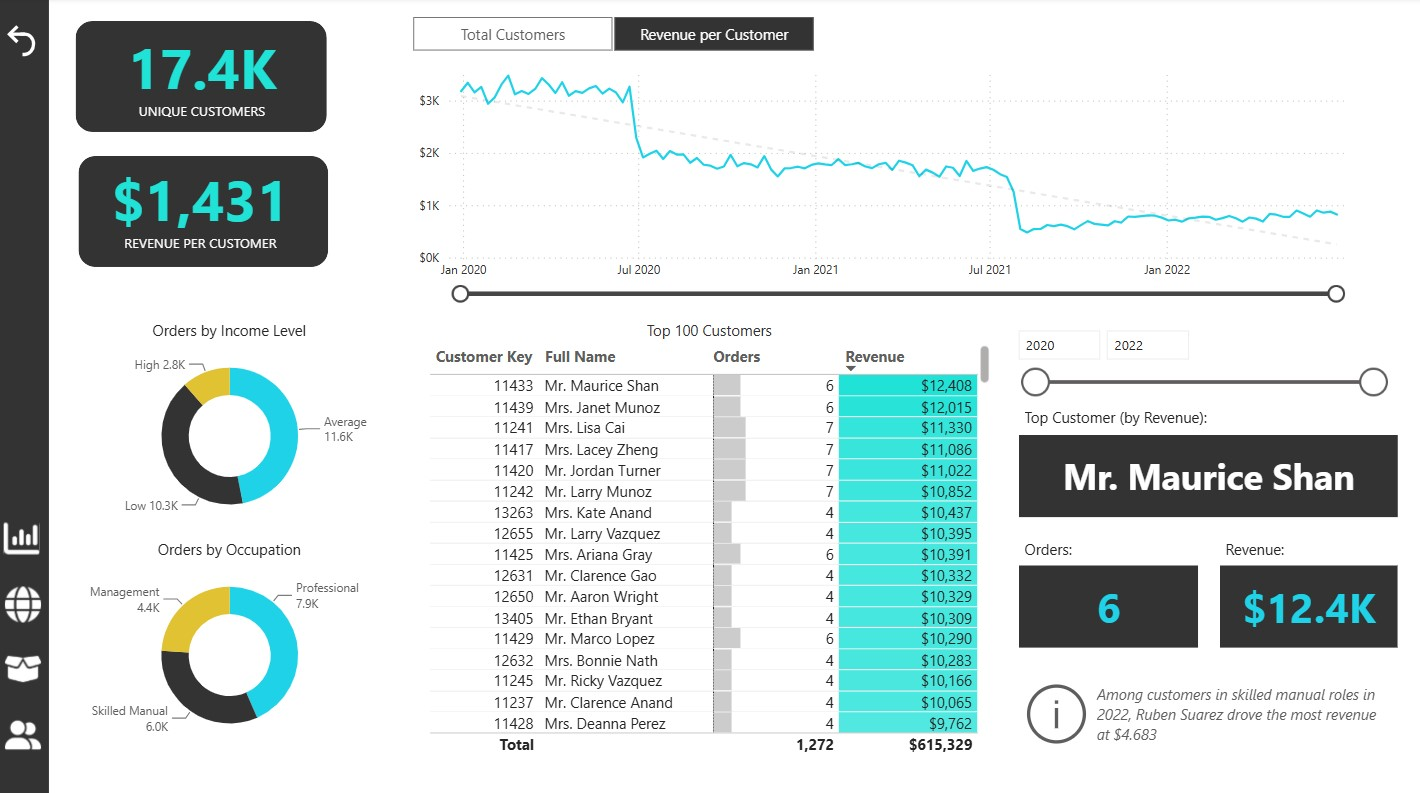

What the dashboard file says about the page in this screenshot:
{"tool":"powerbi","page":{"name":"Customer Detail","canvas":[1280,720],"ordinal":3},"visuals":[{"type":"shape","box":[0,0,45,720.6],"z":1000},{"type":"actionButton","box":[0,467.7,59.5,40.6],"z":1000,"group":"g1"},{"type":"lineChart","fields":{"Category":["Calendar Lookup.Date Hierarchy.Start of Year","Calendar Lookup.Date Hierarchy.Start of Month","Calendar Lookup.Date Hierarchy.Start of Week","Calendar Lookup.Date Hierarchy.Date"],"Y":["Measure Table.Average Revenue per Customer"]},"box":[373.1,55.4,858.3,223],"z":1500},{"type":"shape","box":[69.5,22.2,226.5,100],"z":2000},{"type":"actionButton","box":[1.4,527.2,59.5,40.6],"z":2000,"group":"g1"},{"type":"card","fields":{"Values":["Measure Table.Total Customers"]},"box":[70.3,19.6,224.7,98.6],"z":3000},{"type":"actionButton","box":[1.4,585.3,59.5,40.6],"z":3000,"group":"g1"},{"type":"shape","box":[71.4,142.7,225,100],"z":4000},{"type":"actionButton","box":[1.4,644.8,59.5,40.6],"z":4000,"group":"g1"},{"type":"card","fields":{"Values":["Measure Table.Average Revenue per Customer"]},"box":[67.1,142.5,227.4,93.2],"z":5000},{"type":"donutChart","title":"Orders by Income Level","fields":{"Category":["Customer Lookup.Income Level"],"Y":["Measure Table.Total Orders"]},"box":[67.1,290,280,191.4],"z":6000},{"type":"donutChart","title":"Orders by Occupation","fields":{"Category":["Customer Lookup.Occupation"],"Y":["Measure Table.Total Orders"]},"box":[67.1,488.6,280,191.4],"z":7000},{"type":"tableEx","title":"Top 100 Customers","fields":{"Values":["Customer Lookup.CustomerKey","Customer Lookup.Full Name","Measure Table.Total Orders","Measure Table.Total Revenue"]},"box":[382.5,290.6,515,396.1],"z":8000},{"type":"card","fields":{"Values":["Measure Table.Full Name (Customer Detail)"]},"box":[918.6,395,341.2,73.8],"z":9000},{"type":"card","fields":{"Values":["Measure Table.Total Orders (Customer Detail)"]},"box":[918.6,512.7,161.2,73.8],"z":10000},{"type":"card","fields":{"Values":["Measure Table.Total Revenue (Customer Detail)"]},"box":[1099.8,512.7,160,73.8],"z":11000},{"type":"textbox","box":[918.6,363.7,185,38.8],"z":12000},{"type":"textbox","box":[1099.8,482.5,165,38.8],"z":13000},{"type":"textbox","box":[918.6,482.5,185,38.8],"z":14000},{"type":"slicer","fields":{"Values":["Calendar Lookup.Year"]},"box":[905.6,290.6,354.1,73],"z":15000},{"type":"actionButton","box":[919.2,612.3,340.6,67.6],"z":16000},{"type":"actionButton","box":[1.4,20.3,44.6,37.8],"z":17000},{"type":"group","id":"g1","title":"Navigations Buttons","box":[0,467.7,60.8,217.6],"z":18000},{"type":"slicer","fields":{"Values":["Customer Metric Selection.Customer Metric Selection"]},"box":[347.4,10.8,410.9,44.6],"z":19500}]}

Visuals, with their boxes on the page's 1280x720 design canvas (x1, y1, x2, y2). These are canvas units, not pixel positions in the 1420x793 screenshot, which may show the page scaled, cropped or inside an application window:
shape: x1=0 y1=0 x2=45 y2=721
actionButton: x1=0 y1=468 x2=60 y2=508
lineChart - Calendar Lookup.Date Hierarchy.Start of Year x Calendar Lookup.Date Hierarchy.Start of Month: x1=373 y1=55 x2=1231 y2=278
shape: x1=70 y1=22 x2=296 y2=122
actionButton: x1=1 y1=527 x2=61 y2=568
card - Measure Table.Total Customers: x1=70 y1=20 x2=295 y2=118
actionButton: x1=1 y1=585 x2=61 y2=626
shape: x1=71 y1=143 x2=296 y2=243
actionButton: x1=1 y1=645 x2=61 y2=685
card - Measure Table.Average Revenue per Customer: x1=67 y1=142 x2=294 y2=236
"Orders by Income Level" donutChart: x1=67 y1=290 x2=347 y2=481
"Orders by Occupation" donutChart: x1=67 y1=489 x2=347 y2=680
"Top 100 Customers" tableEx: x1=382 y1=291 x2=898 y2=687
card - Measure Table.Full Name (Customer Detail): x1=919 y1=395 x2=1260 y2=469
card - Measure Table.Total Orders (Customer Detail): x1=919 y1=513 x2=1080 y2=586
card - Measure Table.Total Revenue (Customer Detail): x1=1100 y1=513 x2=1260 y2=586
textbox: x1=919 y1=364 x2=1104 y2=402
textbox: x1=1100 y1=482 x2=1265 y2=521
textbox: x1=919 y1=482 x2=1104 y2=521
slicer - Calendar Lookup.Year: x1=906 y1=291 x2=1260 y2=364
actionButton: x1=919 y1=612 x2=1260 y2=680
actionButton: x1=1 y1=20 x2=46 y2=58
"Navigations Buttons" group: x1=0 y1=468 x2=61 y2=685
slicer - Customer Metric Selection.Customer Metric Selection: x1=347 y1=11 x2=758 y2=55
